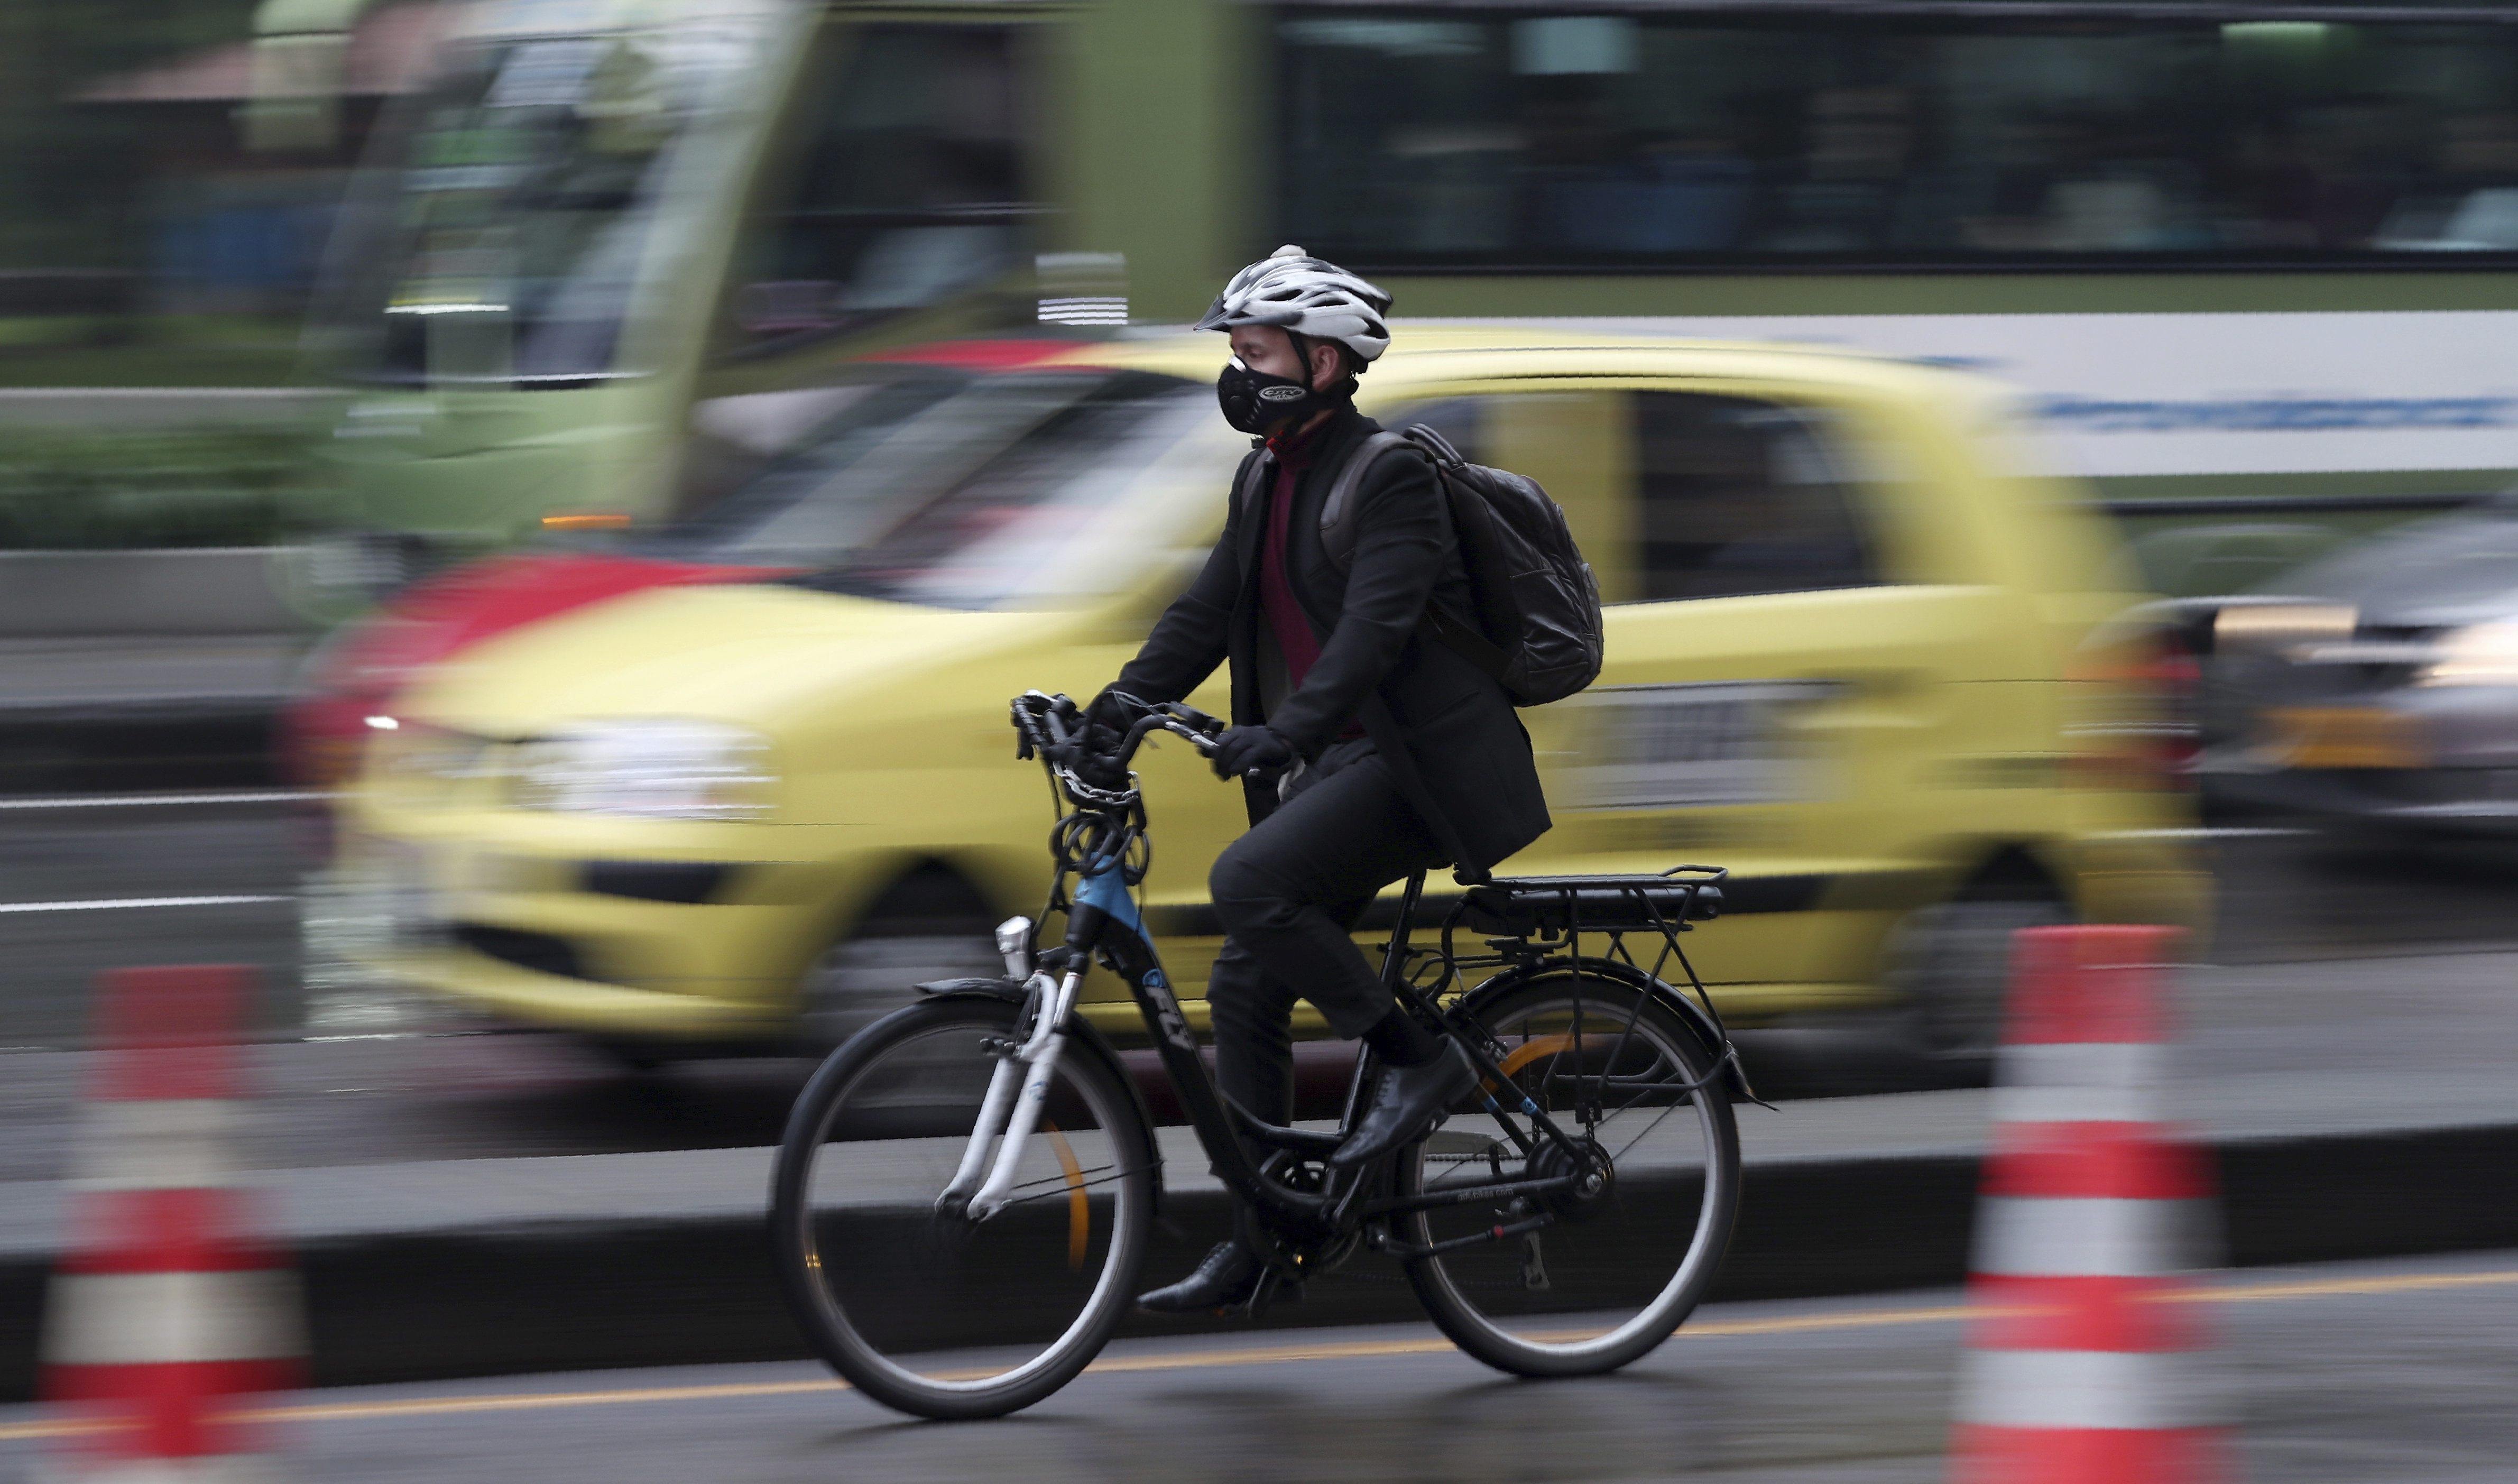commuter: (768, 235, 1755, 1420)
